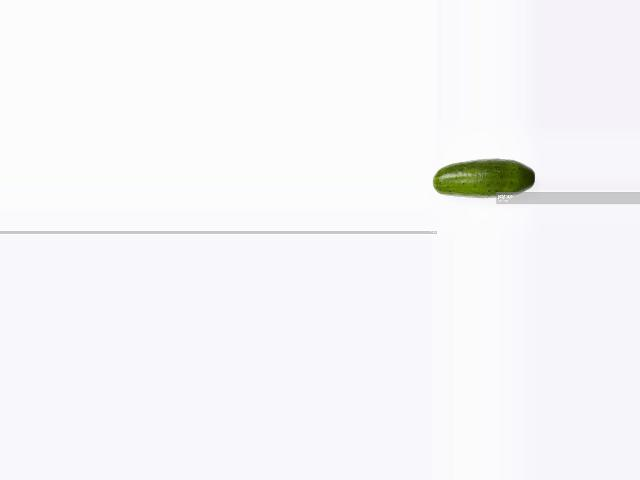cucumber: (432, 158, 536, 198)
